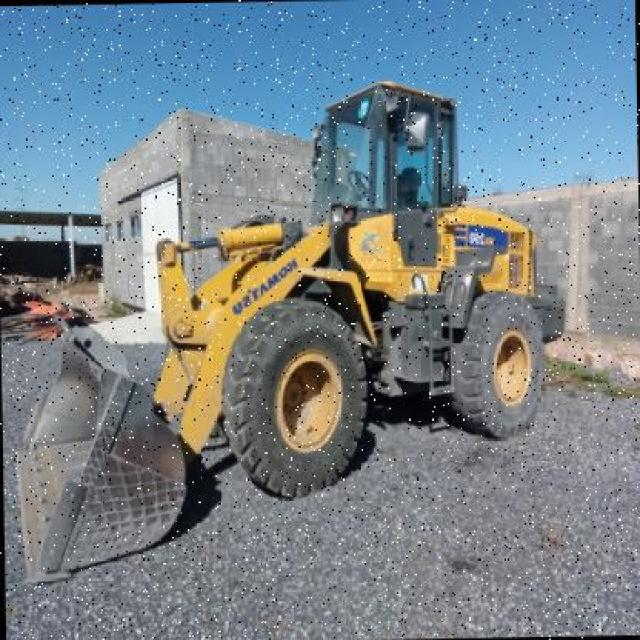buldozerpayloadergrader: (0, 77, 560, 591)
